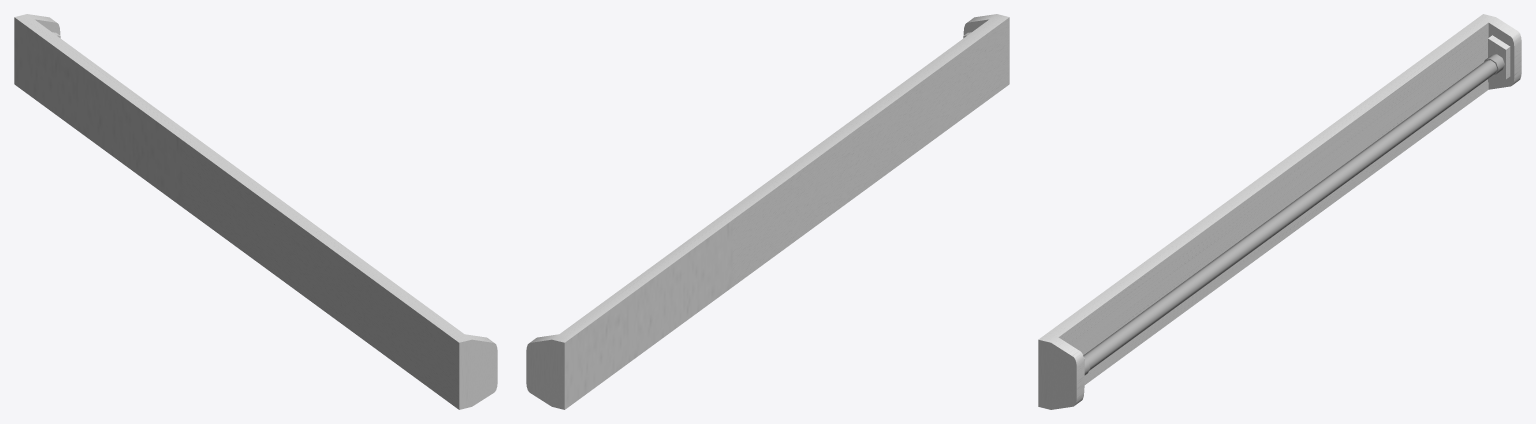
The model's file is wall_lamp.glb.
The picture shows the model from 3 angles, left to right: view 1: azimuth 30°, elevation 25°; view 2: azimuth 150°, elevation 25°; view 3: azimuth 330°, elevation 25°; orthographic projection.
Visible parts, largest first — view 1: wall_lamp; view 2: wall_lamp; view 3: wall_lamp.
Boxes of the visible parts, x1,y1,x2,y2 form: wall_lamp: (14, 14, 497, 409); wall_lamp: (526, 14, 1009, 409); wall_lamp: (1038, 14, 1521, 409).
Bounding box in the file's own units: 0.075 × 0.125 × 1.5.
Materials: 2 (2 with a texture image).
